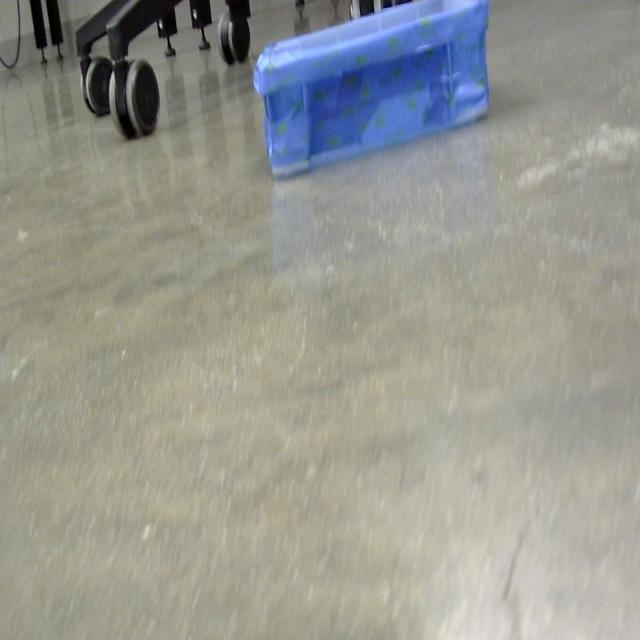bucket: (253, 0, 490, 181)
